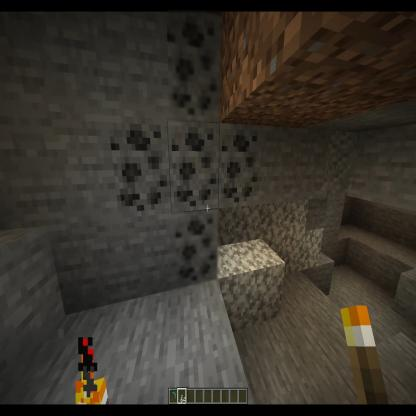coal ore: (168, 10, 222, 122), (106, 122, 172, 212), (167, 118, 221, 212), (171, 210, 220, 293), (218, 120, 262, 209)
